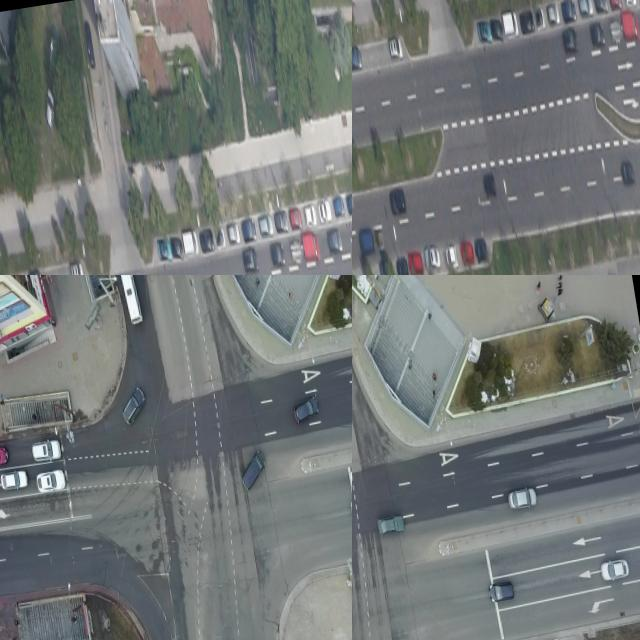UAI: (237, 448, 271, 493), (118, 385, 150, 427), (40, 84, 60, 134), (291, 395, 322, 426), (31, 438, 64, 465), (35, 468, 68, 495), (507, 485, 539, 511), (599, 557, 631, 583), (376, 513, 406, 538), (487, 579, 516, 604), (0, 468, 29, 492), (84, 20, 97, 68), (622, 10, 640, 42), (302, 232, 321, 261), (358, 227, 377, 256), (389, 187, 408, 215), (502, 9, 520, 38), (424, 246, 443, 272), (242, 246, 260, 273), (562, 26, 580, 53), (183, 230, 200, 257), (241, 216, 258, 242), (407, 249, 424, 275), (328, 228, 344, 255), (590, 20, 606, 47), (270, 242, 286, 268), (199, 227, 215, 253), (290, 238, 304, 266), (621, 160, 636, 186), (474, 236, 489, 262), (460, 239, 475, 265), (259, 214, 275, 238), (520, 10, 536, 34), (445, 242, 459, 269), (483, 173, 498, 198), (274, 210, 289, 234), (389, 36, 404, 60), (561, 0, 577, 22), (610, 18, 623, 45), (170, 234, 184, 259), (157, 237, 172, 260), (318, 200, 333, 223), (478, 20, 493, 43), (490, 18, 504, 42), (227, 222, 241, 244), (290, 208, 304, 230), (547, 2, 561, 24), (395, 255, 410, 275), (304, 204, 317, 226), (333, 196, 346, 218), (352, 44, 363, 70), (578, 0, 594, 17), (215, 226, 227, 248), (535, 5, 546, 28), (0, 444, 10, 469), (375, 229, 386, 251), (70, 260, 85, 275), (593, 0, 608, 13), (345, 191, 352, 215), (609, 0, 623, 10), (27, 267, 44, 275), (623, 0, 637, 6)
harvester: (117, 275, 145, 326)
